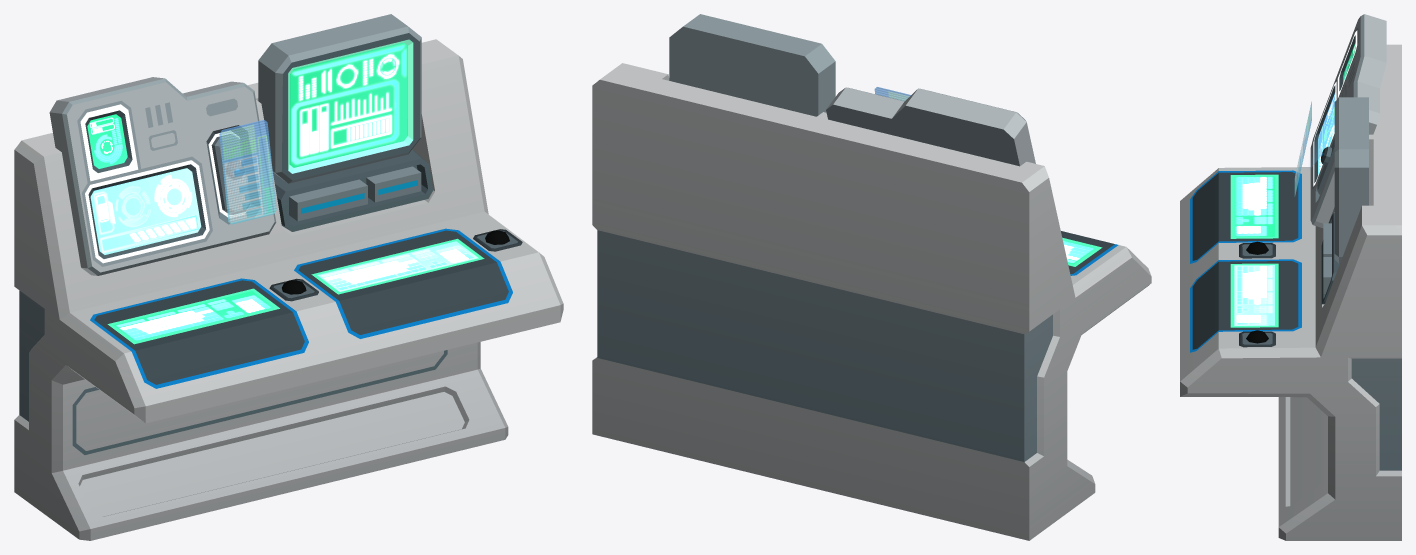
Rendered from Terminal_002.glb.
3 renders of one model, left to right at view 1: azimuth 30°, elevation 25°; view 2: azimuth 150°, elevation 25°; view 3: azimuth 270°, elevation 25°, orthographic. The views are drawn at different scales.
Visible parts, largest first — view 1: Terminal_002; view 2: Terminal_002; view 3: Terminal_002.
Boxes of the visible parts, bbox=[...] form: Terminal_002: bbox=[14, 14, 563, 540]; Terminal_002: bbox=[592, 14, 1151, 540]; Terminal_002: bbox=[1180, 14, 1401, 540].
Bounding box in the file's own units: 1.8 × 1.62 × 0.9.
Materials: 5 (5 with a texture image).
